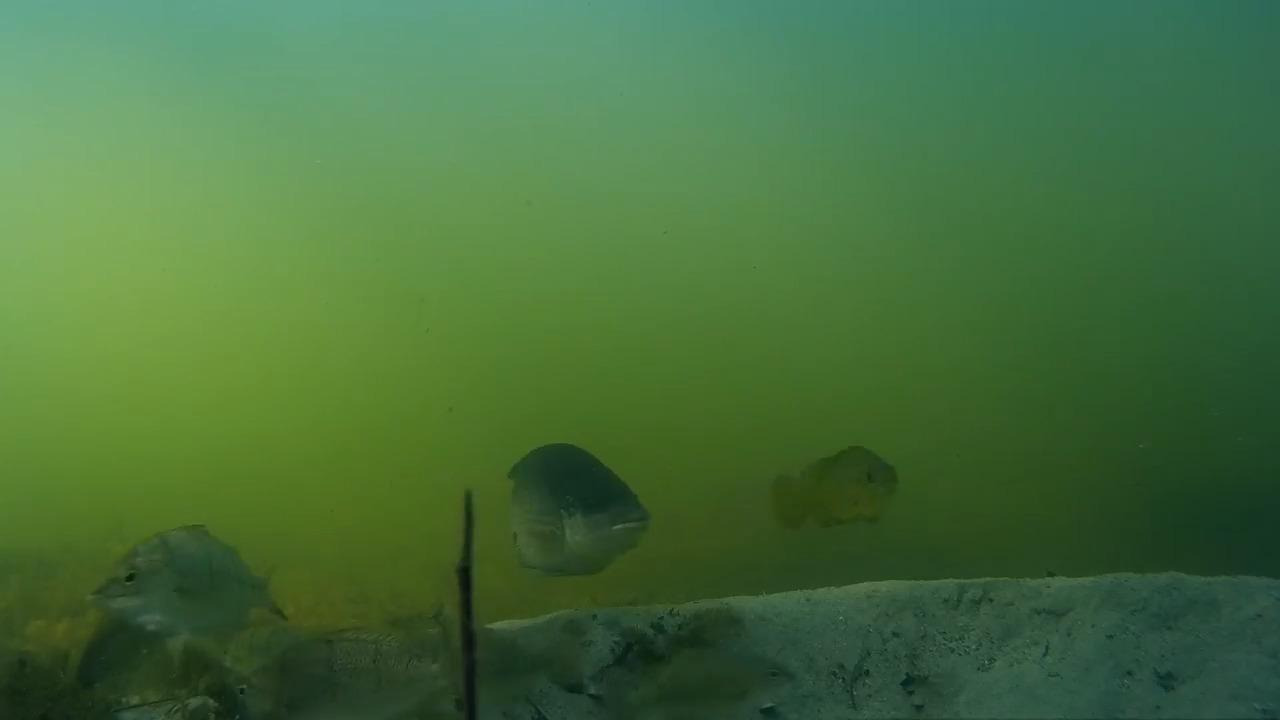Tilapia: (87, 518, 310, 674), (478, 440, 658, 588), (234, 630, 459, 716), (763, 436, 905, 545), (596, 648, 801, 720)
